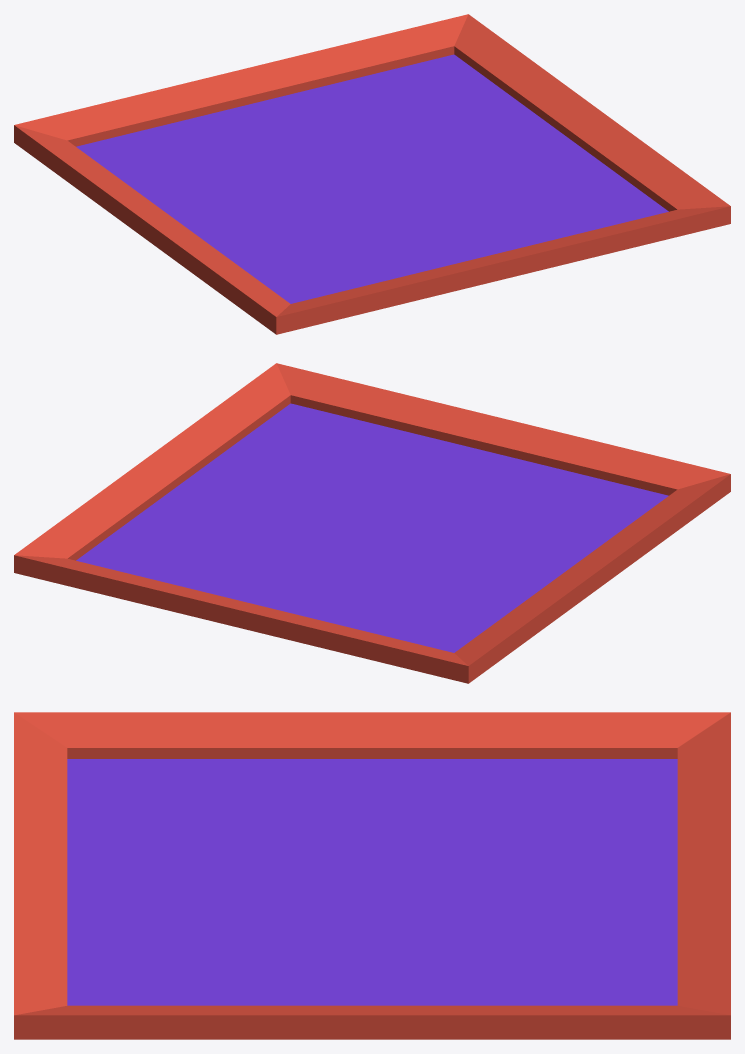
The model's file is SquareFrame.fbx.
3 renders of one model, top to bottom at view 1: azimuth 30°, elevation 25°; view 2: azimuth 150°, elevation 25°; view 3: azimuth 270°, elevation 25°, orthographic. The views are drawn at different scales.
Visible parts, largest first — view 1: SquareFrame; view 2: SquareFrame; view 3: SquareFrame.
Part boxes in pixels (x1,y1,x2,y2): SquareFrame: (14,14,730,334); SquareFrame: (14,363,730,683); SquareFrame: (14,712,730,1039).
Size of the model in its own units: 94 by 3.5 by 94.
